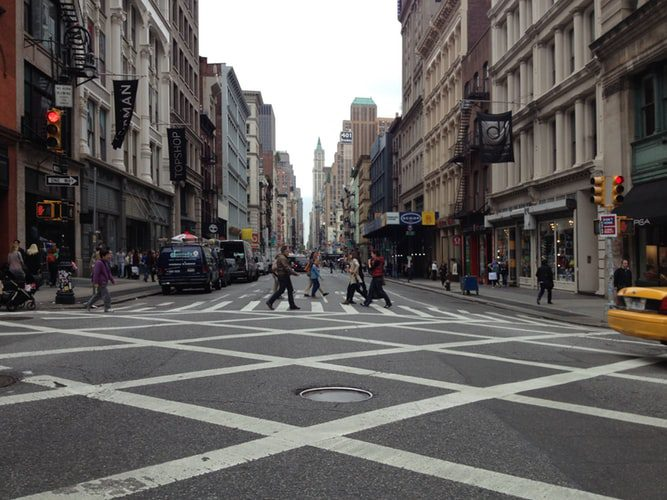Car: (161, 230, 224, 292)
Crosswalk: (126, 291, 548, 325)
Person: (266, 245, 305, 312), (89, 244, 118, 313)
